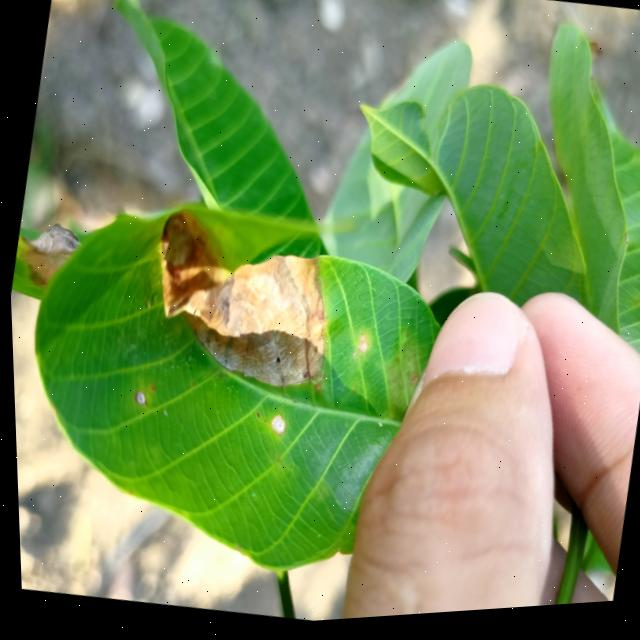Colletotrichum: (129, 389, 146, 409)
Leaf-Blight: (134, 199, 345, 405), (265, 415, 285, 438)
